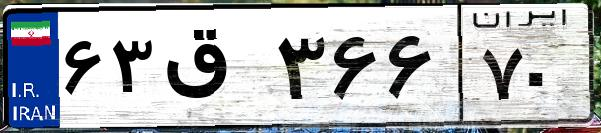0: (525, 38, 570, 115)
3: (270, 28, 330, 110), (110, 28, 158, 98)
6: (385, 28, 445, 110), (330, 28, 385, 110), (57, 26, 110, 100)
7: (475, 38, 525, 113)
ق: (158, 20, 270, 120)
